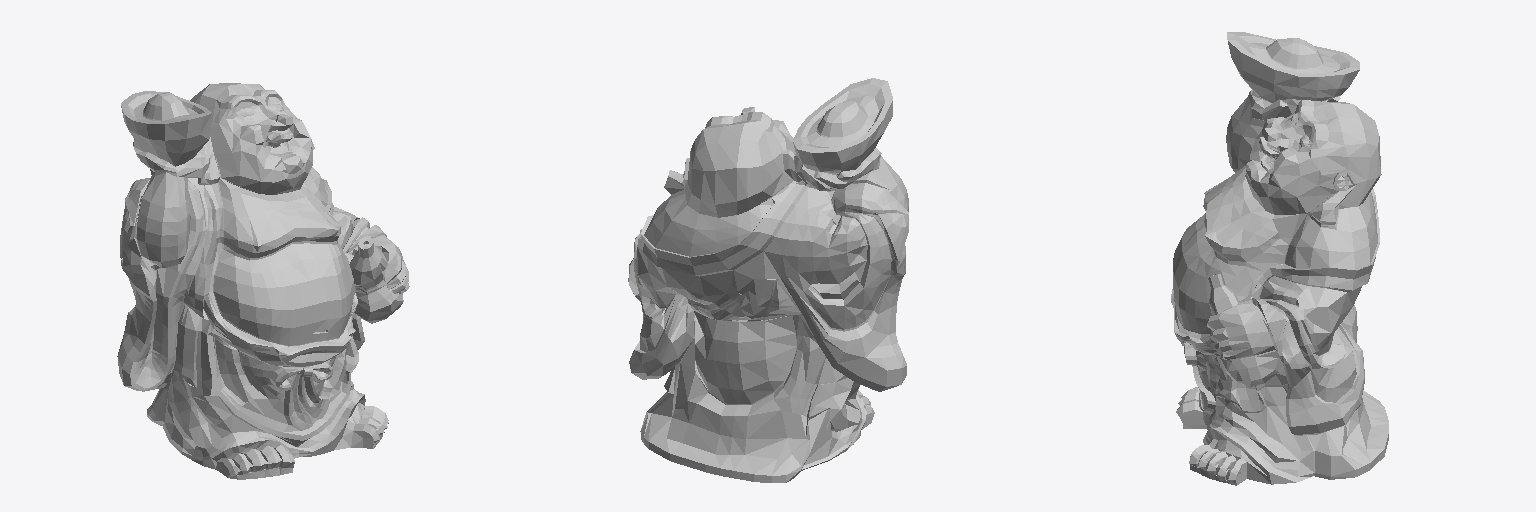
Rendered from buddha.obj.
The picture shows the model from 3 angles: view 1: azimuth 30°, elevation 25°; view 2: azimuth 150°, elevation 25°; view 3: azimuth 270°, elevation 25°; orthographic projection.
Bounding box in the file's own units: 0.7808 × 0.9897 × 0.5512.